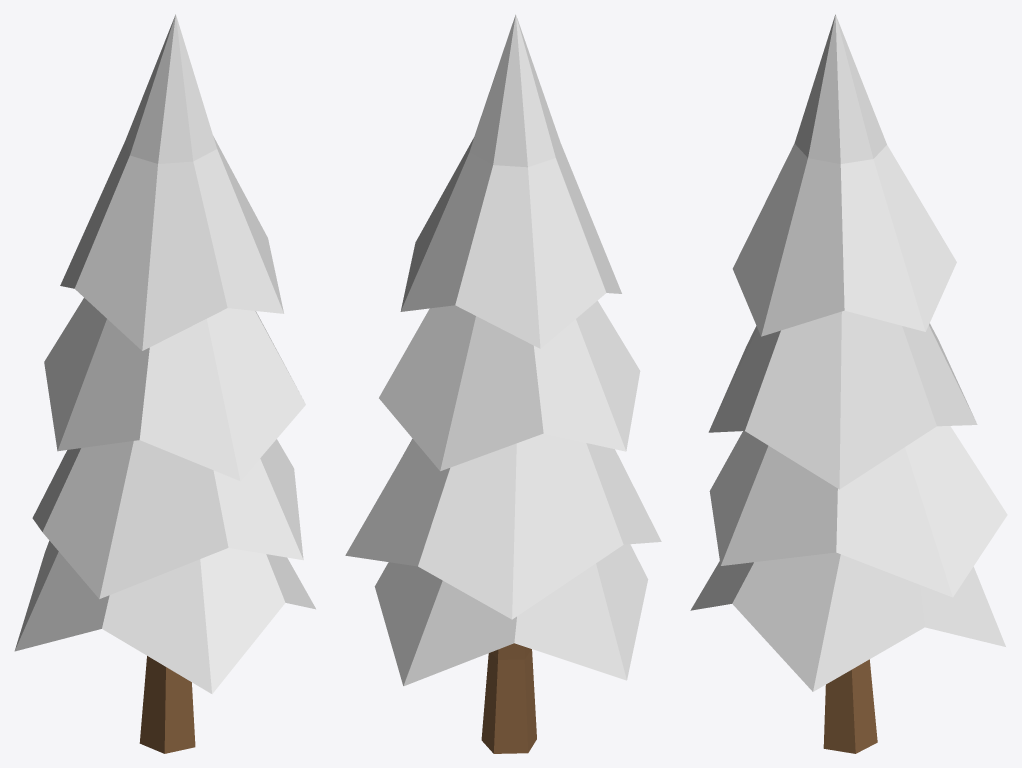
The model's file is Pine_Tree_OneSided_m_Snow_03_LOD.fbx.
3 renders of one model, left to right at view 1: azimuth 30°, elevation 25°; view 2: azimuth 150°, elevation 25°; view 3: azimuth 270°, elevation 25°, orthographic.
Visible parts, largest first — view 1: Pine_Tree_OneSided_m_Snow_03_LOD0; view 2: Pine_Tree_OneSided_m_Snow_03_LOD0; view 3: Pine_Tree_OneSided_m_Snow_03_LOD0.
Boxes of the visible parts, x1=… form: Pine_Tree_OneSided_m_Snow_03_LOD0: x1=14, y1=14, x2=315, y2=753; Pine_Tree_OneSided_m_Snow_03_LOD0: x1=345, y1=14, x2=661, y2=753; Pine_Tree_OneSided_m_Snow_03_LOD0: x1=690, y1=14, x2=1007, y2=753.
Size of what is drawn, in the model's own units: 352 by 925 by 366.
